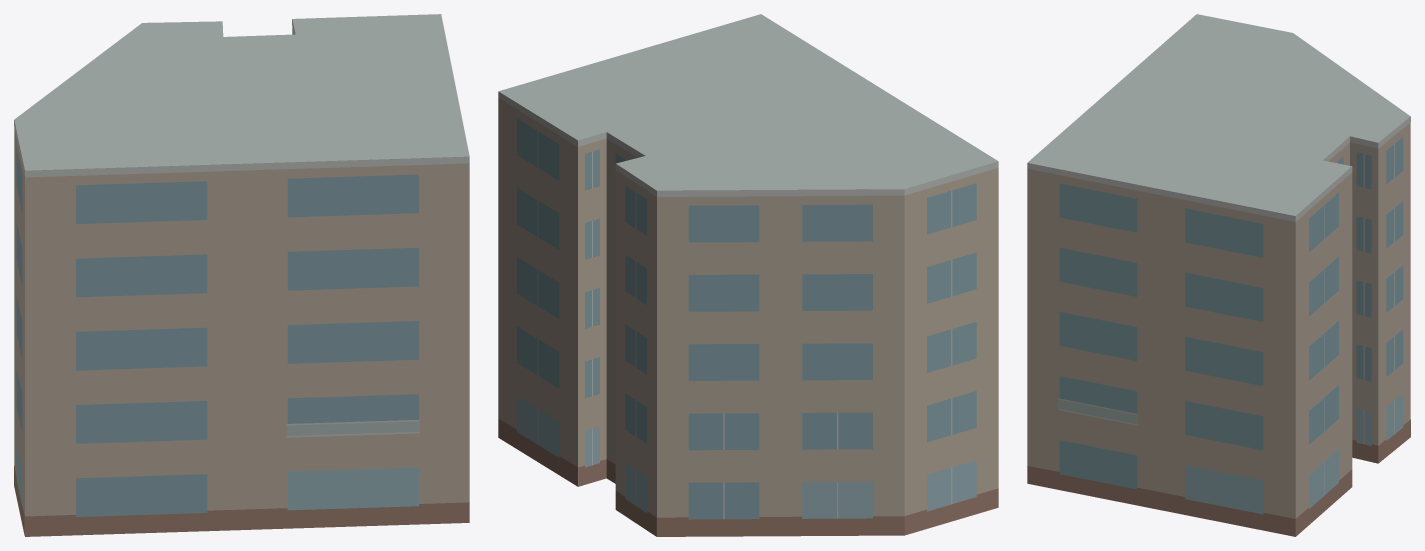
The model's file is survey-upis-32668843.glb.
3 views of the same model, side by side, from view 1: azimuth 30°, elevation 25°; view 2: azimuth 150°, elevation 25°; view 3: azimuth 270°, elevation 25° (orthographic). The views are drawn at different scales.
Parts seen in each view (by area): view 1: survey-upis-32668843.tmp; view 2: survey-upis-32668843.tmp; view 3: survey-upis-32668843.tmp.
Part boxes in pixels (left/top/right/bottom): survey-upis-32668843.tmp: left=14, top=14, right=469, bottom=536; survey-upis-32668843.tmp: left=498, top=14, right=998, bottom=536; survey-upis-32668843.tmp: left=1027, top=14, right=1410, bottom=536.
Bounding box in the file's own units: 17.84 × 13.2 × 14.31.
